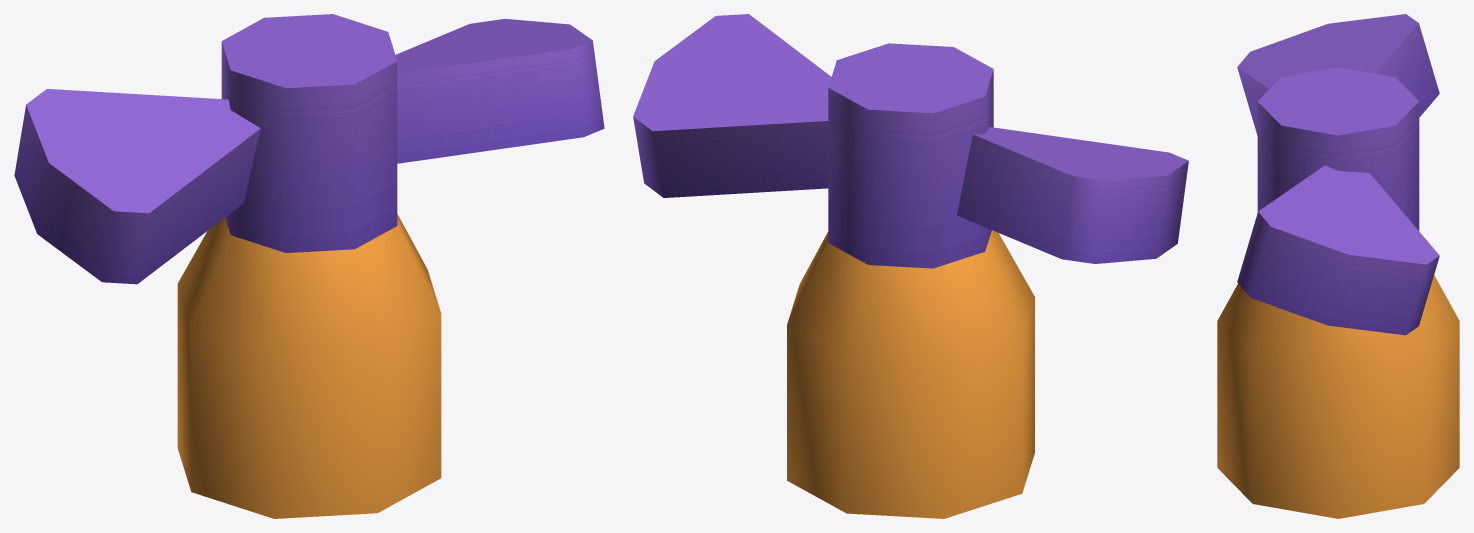
Rendered from fan-simple-two.glb.
3 renders of one model, left to right at view 1: azimuth 30°, elevation 25°; view 2: azimuth 150°, elevation 25°; view 3: azimuth 270°, elevation 25°, orthographic. The views are drawn at different scales.
Parts seen in each view (by area): view 1: fan-simple-two, fan; view 2: fan-simple-two, fan; view 3: fan-simple-two, fan.
Boxes of the visible parts, bbox=[...] form: fan-simple-two: bbox=[177, 14, 441, 518]; fan: bbox=[14, 18, 604, 284]; fan-simple-two: bbox=[787, 43, 1034, 518]; fan: bbox=[633, 14, 1188, 263]; fan-simple-two: bbox=[1217, 67, 1459, 518]; fan: bbox=[1237, 14, 1439, 335].
Bounding box in the file's own units: 0.6765 × 0.5 × 0.3.
Materials: 1 (1 with a texture image).
